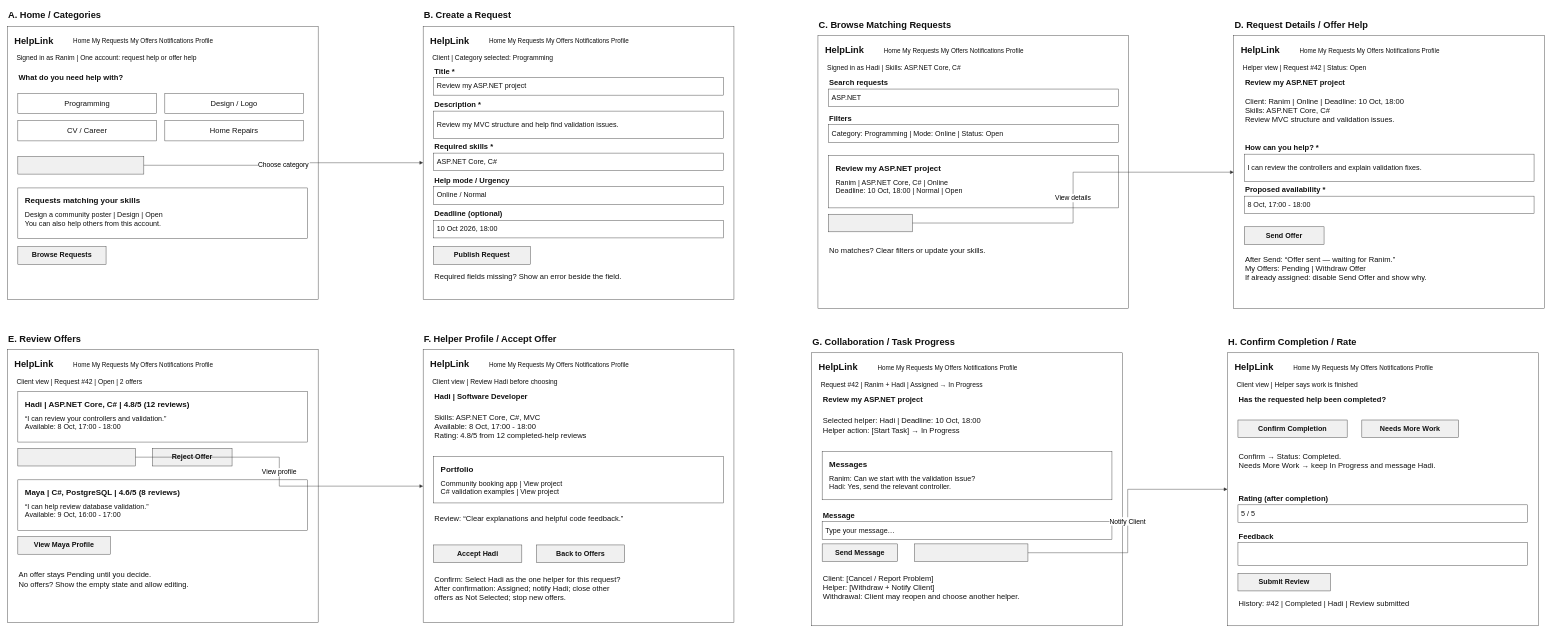
This 1552x633 diagram has some shape labels left out. The shapes that lost their labels are listed below. From the top down, each one's centre as x and y in pixels, then its label:
At point (80, 165): "Request Programming Help".
At point (870, 223): "View Request".
At point (76, 457): "View Profile / Portfolio".
At point (971, 552): "Work Finished (Helper)".
At point (1383, 554): "Hadi explained the validation fixes clearly.".
